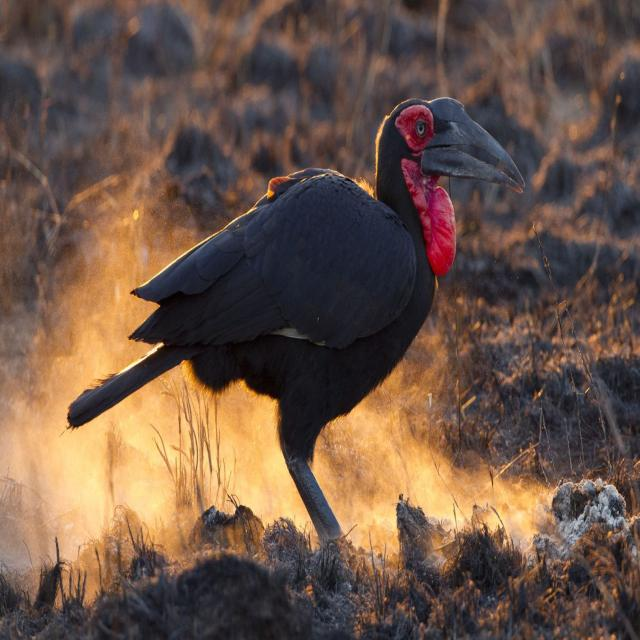Hornbill: (68, 78, 530, 550)
